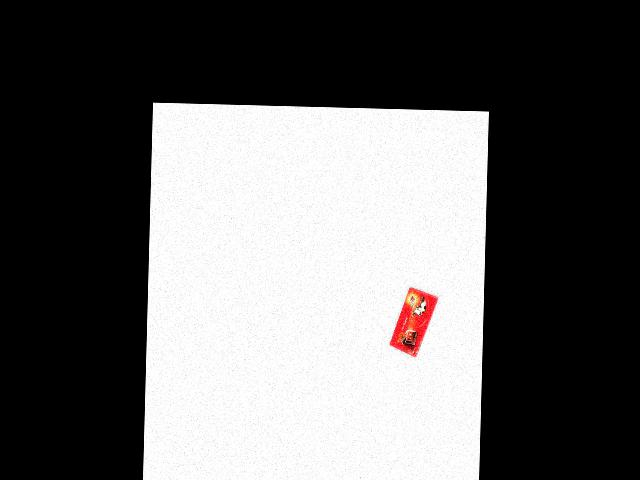chocolate: (388, 288, 438, 358)
